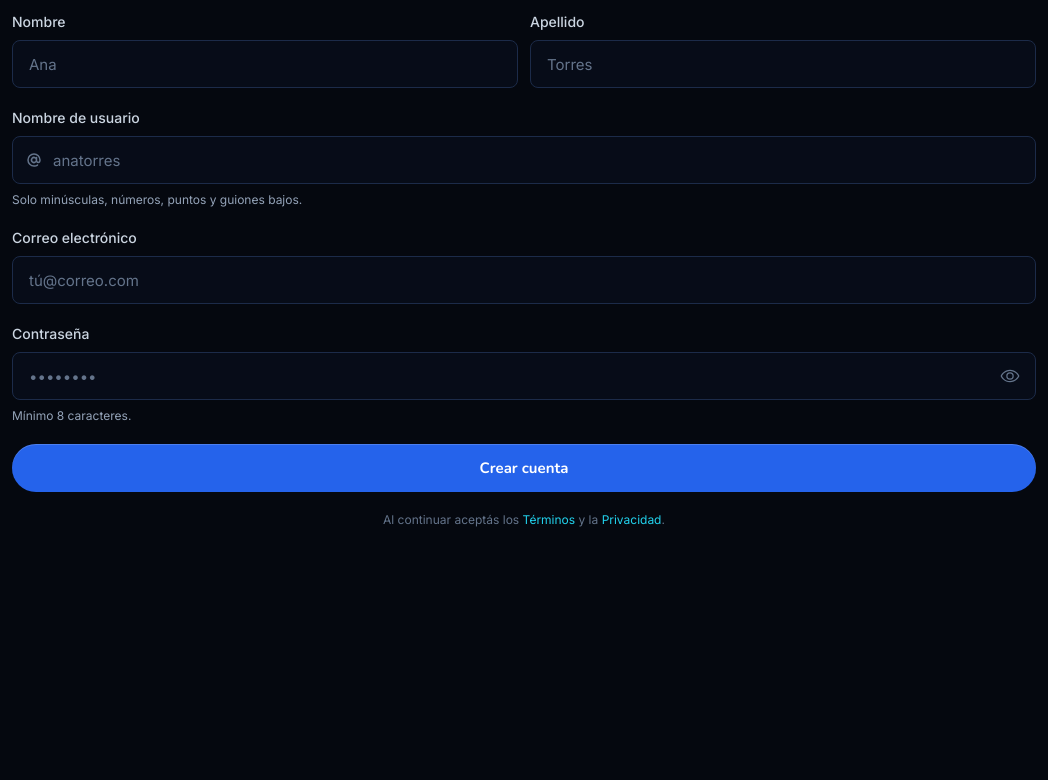
Test case: RegisterForm › sin completar no envía y marca cada campo que falta
The image size is (1048, 780).
Click the button "Crear cuenta" at (524,468), box left=12, top=444, right=1036, bottom=492
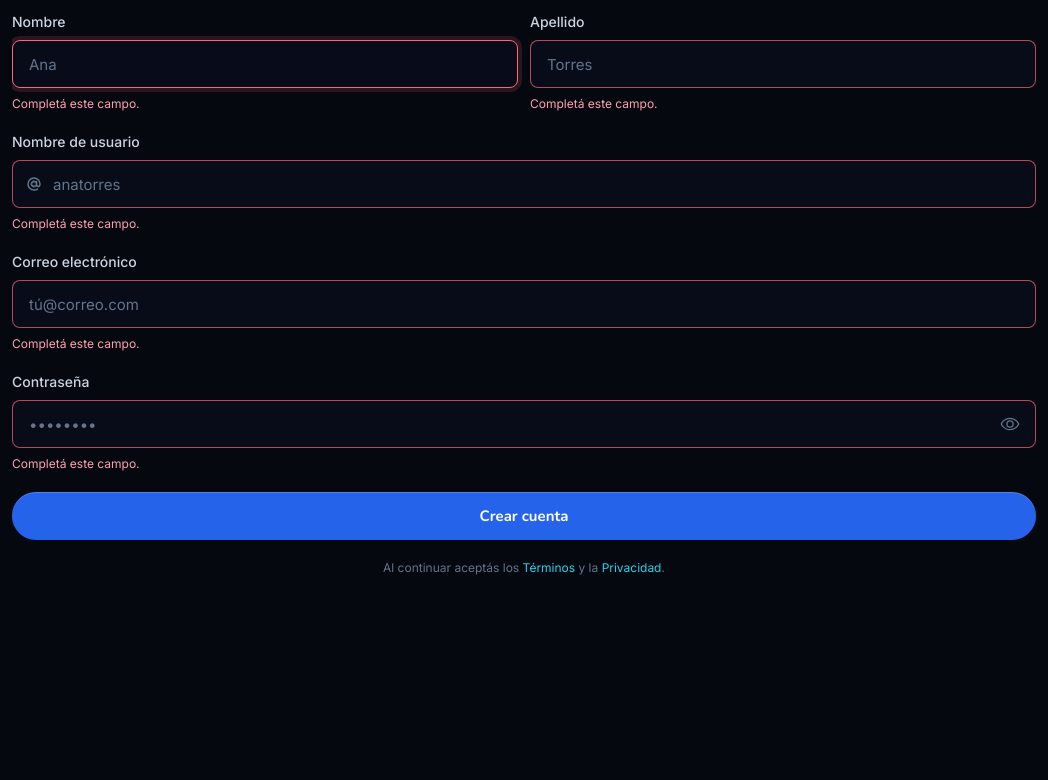
Result: the text "Completá este campo." is shown 5 times at left=12, top=96, right=140, bottom=111; left=530, top=96, right=658, bottom=111; left=12, top=216, right=140, bottom=231; left=12, top=336, right=140, bottom=351; left=12, top=456, right=140, bottom=471
